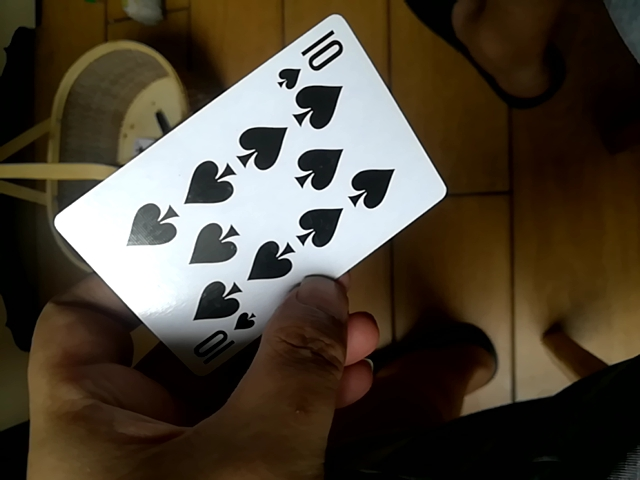ht 10: (56, 18, 447, 370)
